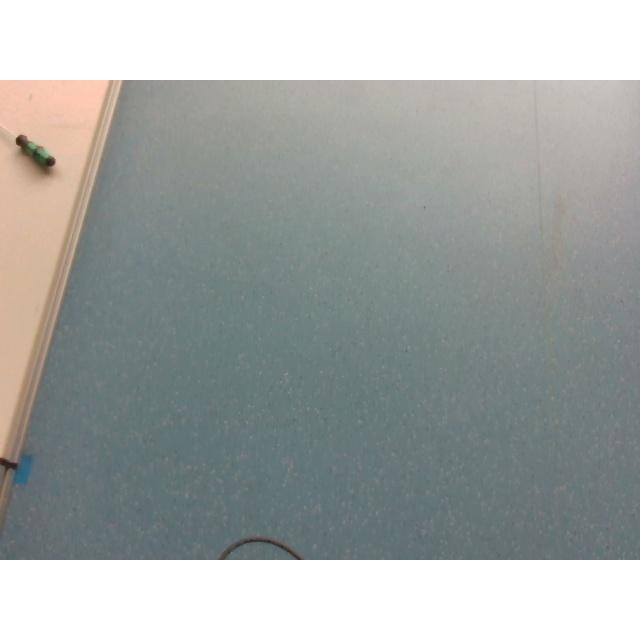Screwdriver: (0, 100, 56, 168)
